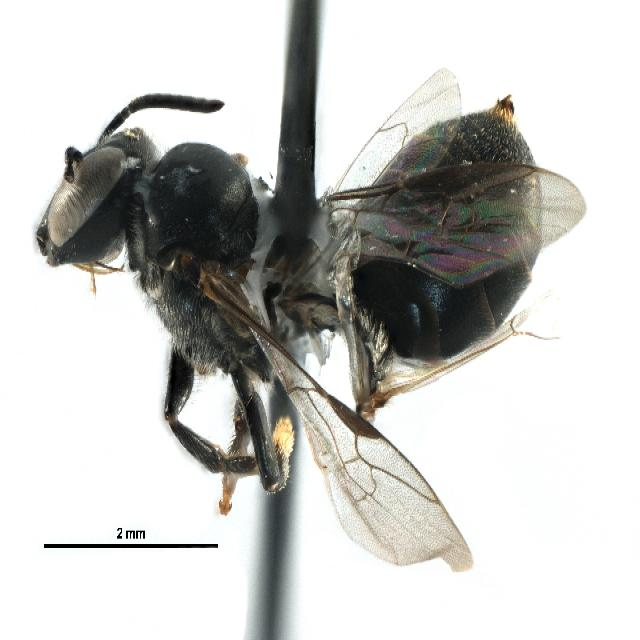Braunsapis: (28, 29, 588, 590)
